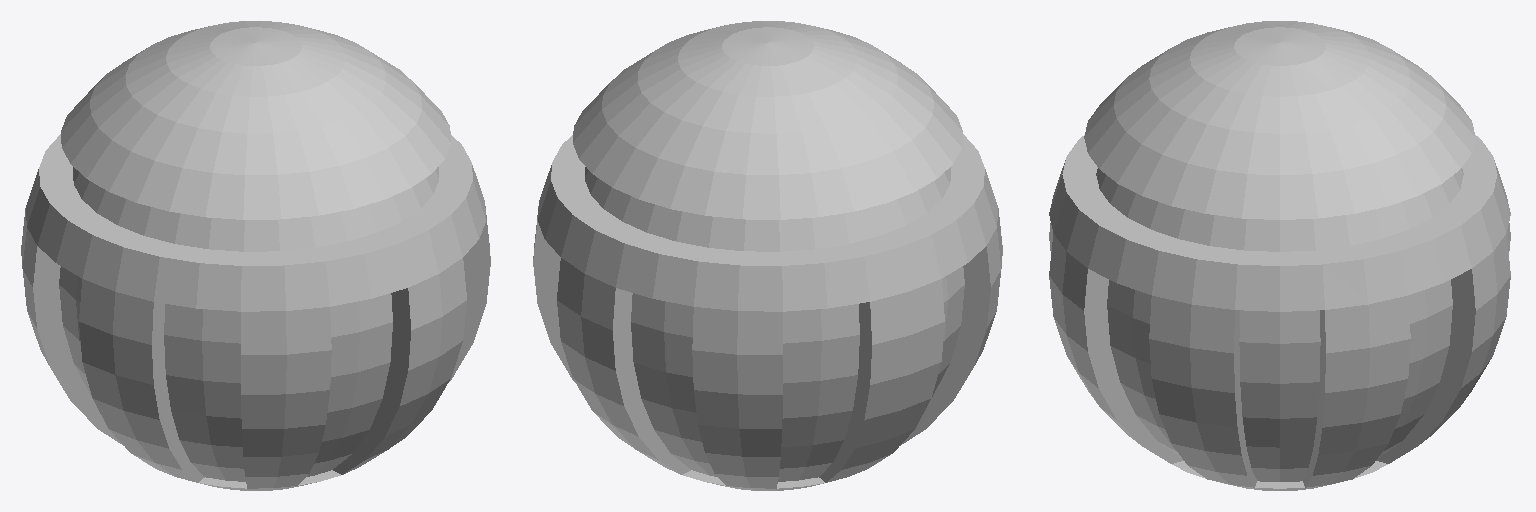
File: Hoverball.obj
3 renders of one model, left to right at view 1: azimuth 30°, elevation 25°; view 2: azimuth 150°, elevation 25°; view 3: azimuth 270°, elevation 25°, orthographic.
Visible parts, largest first — view 1: Sphere_Sphere.001; view 2: Sphere_Sphere.001; view 3: Sphere_Sphere.001.
Boxes of the visible parts, <box> form: Sphere_Sphere.001: <box>21,21,490,490</box>; Sphere_Sphere.001: <box>533,21,1002,490</box>; Sphere_Sphere.001: <box>1049,21,1510,490</box>.
Bounding box in the file's own units: 0.3139 × 0.32 × 0.3139.